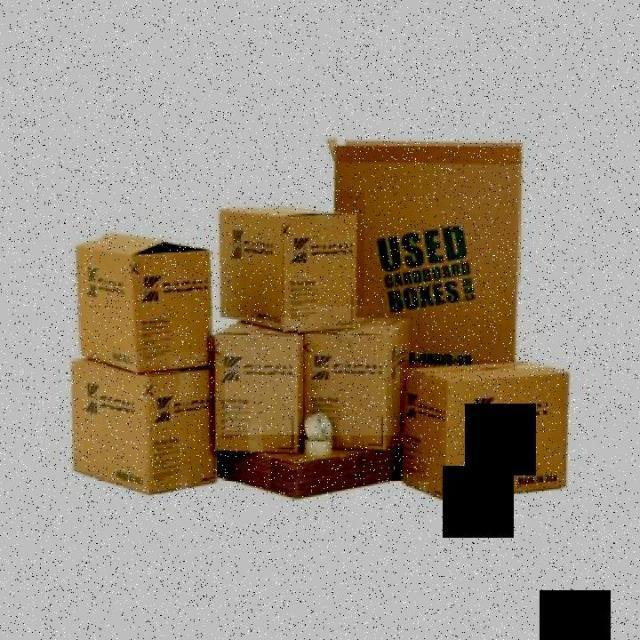box: (324, 132, 530, 382), (400, 360, 580, 508), (61, 352, 225, 507), (73, 211, 214, 375), (214, 192, 364, 334), (298, 306, 418, 472), (208, 318, 308, 454), (218, 436, 401, 504)
